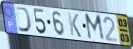2: (103, 16, 120, 44)
5: (32, 8, 47, 35)
6: (52, 11, 66, 38)
D: (15, 6, 33, 34)
K: (67, 12, 82, 39)
M: (83, 13, 106, 43)
